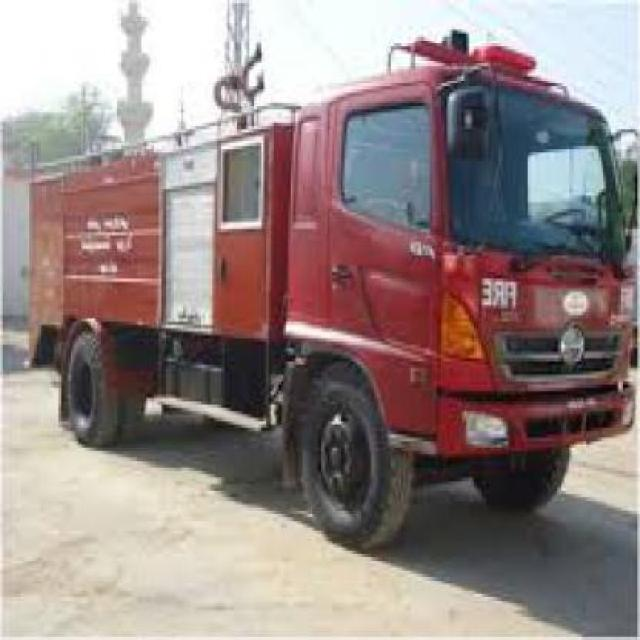Fire Truck: (22, 33, 638, 550)
